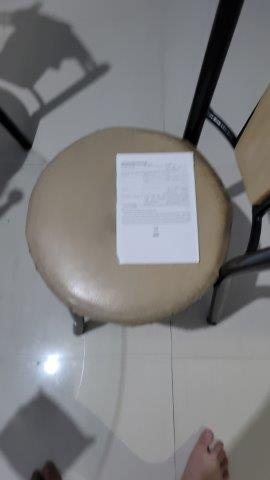kertas: (117, 152, 199, 263)
